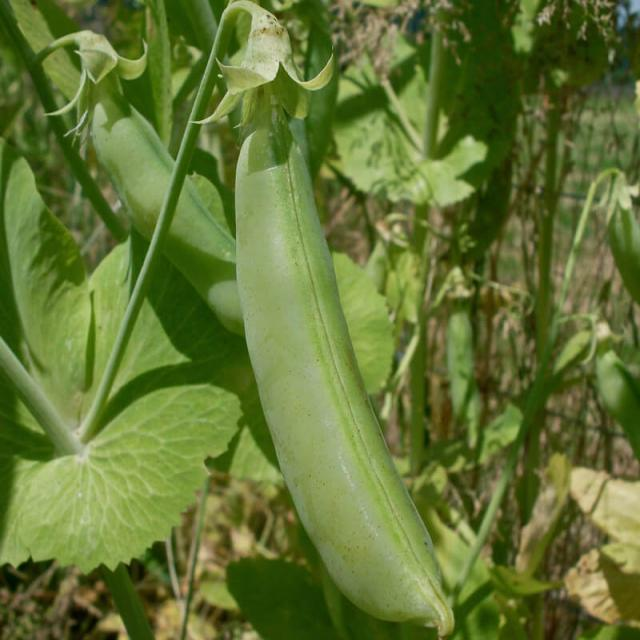Peas: (233, 119, 459, 636)
